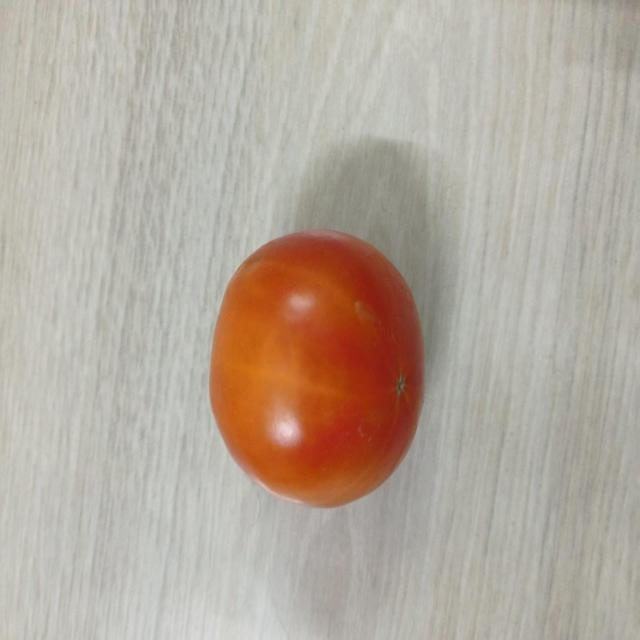Tomato: (206, 227, 429, 514)
